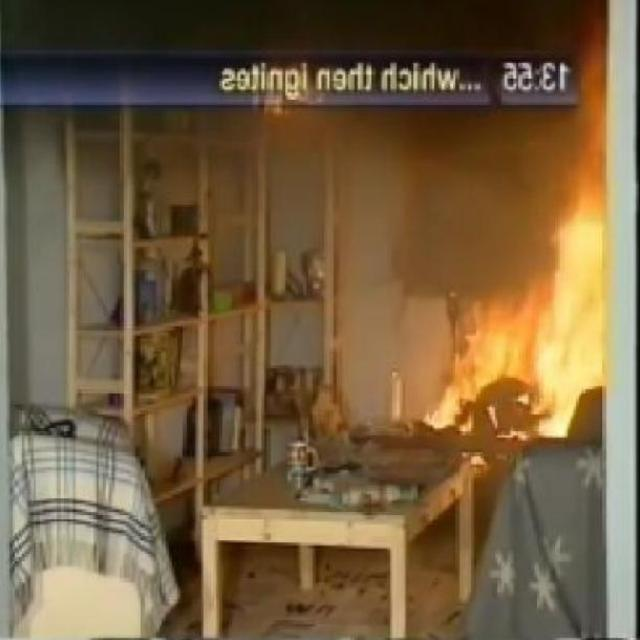smoke: (419, 16, 613, 440)
